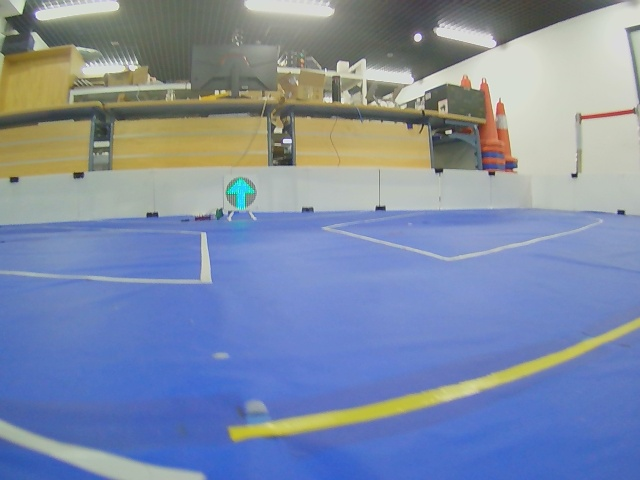straight_green: (225, 177, 257, 211)
